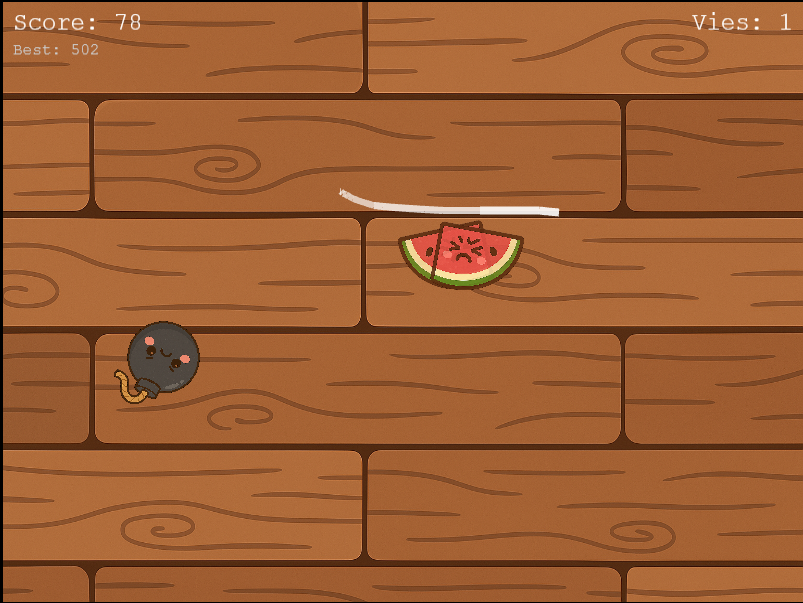bomb: (110, 314, 208, 412)
